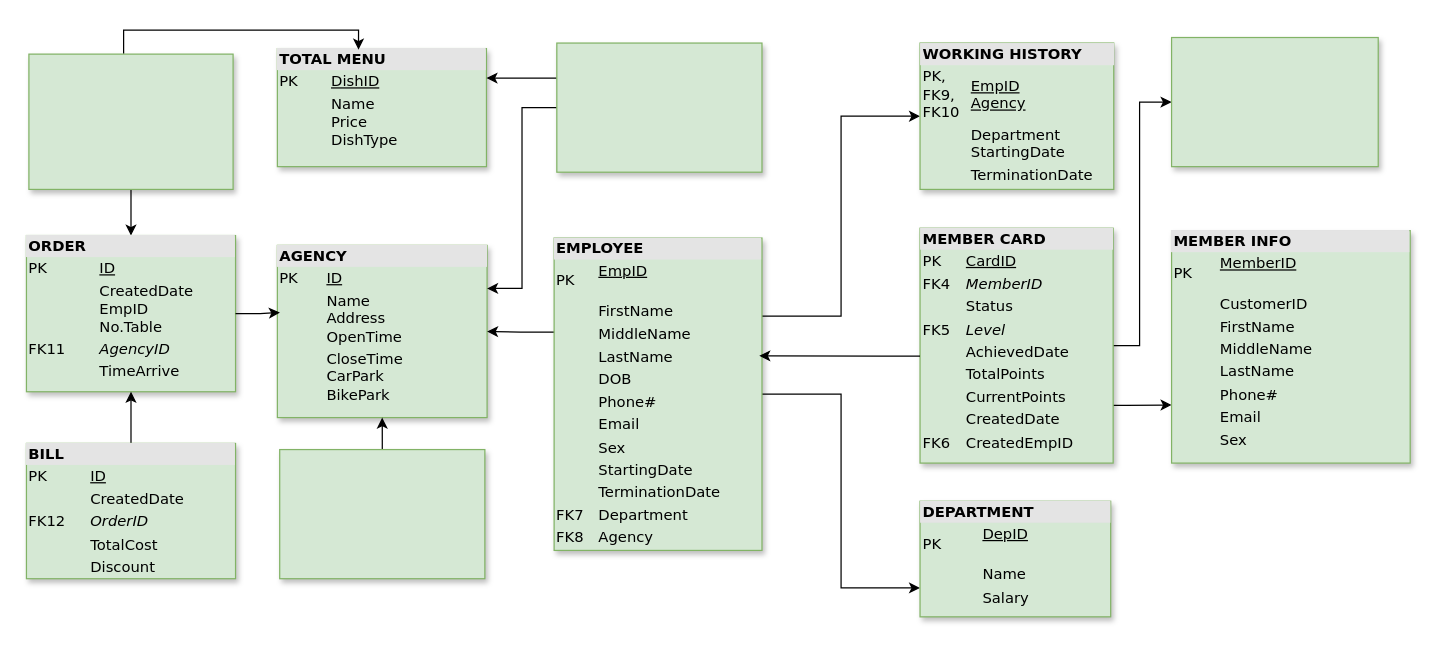
The diagram is 1439 pixels wide and 647 high, and some of its shapes have lost their labels. The shapes that lost their labels are listed below. From the top down, each one's centre as x and y in pixels, then its label:
At (131,123): "ORDER DETAIL PK, FK13, FK14 OderID DishID Amount CreatedDate".
At (660,109): "AGENCY MENU PK, FK1, FK2 DishID AgencyID Serve Deliverable".
At (1275,103): "MEMBERSHIP LEVEL PK Level DiscountRate Achieve Maintain".
At (383,515): "AGENCY TABLE PK, FK15 No.Table AgencyID Capacity Status".
